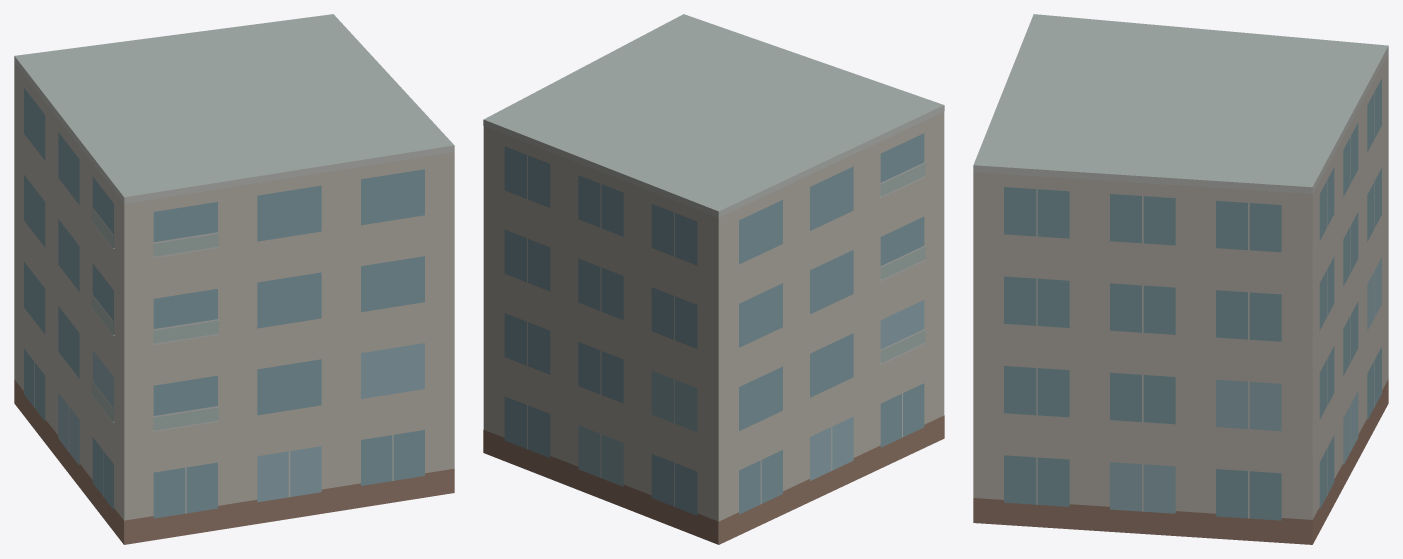
The model's file is survey-upis-33016440.glb.
3 views of the same model, side by side, from view 1: azimuth 30°, elevation 25°; view 2: azimuth 150°, elevation 25°; view 3: azimuth 270°, elevation 25° (orthographic). The views are drawn at different scales.
Parts seen in each view (by area): view 1: survey-upis-33016440.tmp; view 2: survey-upis-33016440.tmp; view 3: survey-upis-33016440.tmp.
Boxes of the visible parts, bbox=[...] form: survey-upis-33016440.tmp: bbox=[14, 14, 454, 544]; survey-upis-33016440.tmp: bbox=[483, 14, 944, 544]; survey-upis-33016440.tmp: bbox=[973, 14, 1388, 544].
Bounding box in the file's own units: 13.3 × 12.8 × 13.48.
